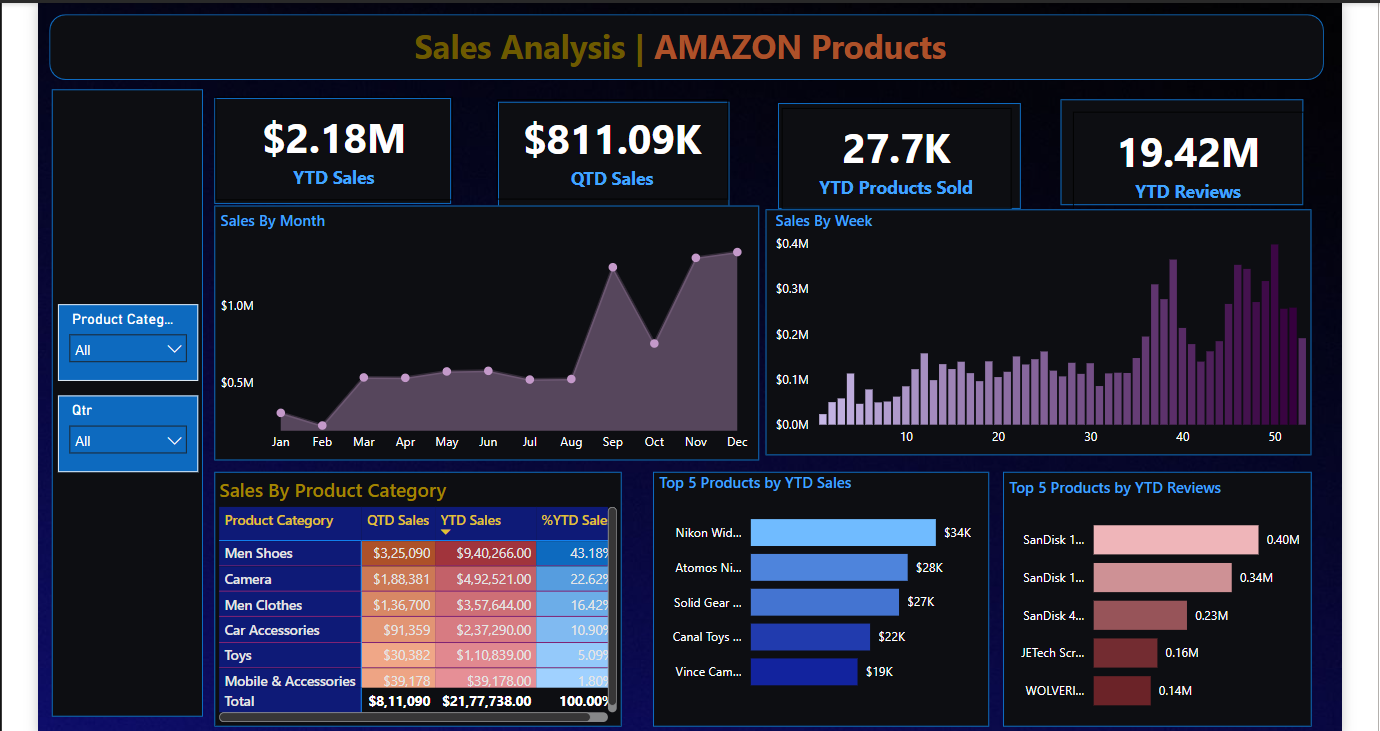

This screenshot's page, from the dashboard's own definition file:
{"tool":"powerbi","page":{"name":"Page 1","canvas":[1280,720],"ordinal":0},"visuals":[{"type":"shape","box":[11,11,1251.5,64.5],"z":0},{"type":"shape","box":[173,93.9,233.1,104.3],"z":0,"group":"g1"},{"type":"shape","box":[13.5,84.7,148.5,616],"z":1000},{"type":"textbox","box":[365,16.5,543.4,54.9],"z":2000},{"type":"group","id":"g1","title":"Group 1","box":[173,92.3,1070.2,113.9],"z":3000},{"type":"card","fields":{"Values":["Amazon_Data.YTD Sales"]},"box":[174.5,92.3,233.1,101.8],"z":4000,"group":"g1"},{"type":"shape","box":[173,198.8,535,250.3],"z":4000},{"type":"shape","box":[451.5,97.3,227,104.3],"z":5000,"group":"g1"},{"type":"areaChart","title":"Sales By Month","fields":{"Category":["Date Table.Month Name"],"Y":["Sum(Amazon_Data.Price(Dollar))"]},"box":[174.2,202.5,533.7,246.6],"z":5000},{"type":"shape","box":[726.4,98.7,238,104.3],"z":6000,"group":"g1"},{"type":"shape","box":[714.1,202.5,536.2,241.7],"z":6000},{"type":"shape","box":[1003.9,94.4,238,104.3],"z":7000,"group":"g1"},{"type":"columnChart","title":"Sales By Week","fields":{"Category":["Date Table.Week"],"Y":["Sum(Amazon_Data.Price(Dollar))"]},"box":[719,202.5,535,241.7],"z":7000},{"type":"card","fields":{"Values":["Amazon_Data.QTD Sales"]},"box":[450,94.9,227,98.2],"z":7001,"group":"g1"},{"type":"card","fields":{"Values":["Amazon_Data.YTD Products Sold"]},"box":[730,103,225.8,99.4],"z":7002,"group":"g1"},{"type":"card","fields":{"Values":["Amazon_Data.YTD Reviews"]},"box":[1016.2,106.9,227,99.4],"z":7003,"group":"g1"},{"type":"shape","box":[173,460.1,400,250.3],"z":8000},{"type":"pivotTable","title":"Sales By Product Category","fields":{"Rows":["Amazon_Data.Product Category"],"Values":["Amazon_Data.QTD Sales","Amazon_Data.YTD Sales1","Amazon_Data.YTD Sales"]},"box":[173,465,400,245.4],"z":9000},{"type":"shape","box":[603.7,460.1,330.1,250.3],"z":10000},{"type":"shape","box":[947.2,460.1,303.1,250.3],"z":11000},{"type":"clusteredBarChart","title":"Top 5 Products by YTD Sales","fields":{"Category":["Amazon_Data.Product Description"],"Y":["Amazon_Data.YTD Sales"]},"box":[604.9,460.1,328.8,229.4],"z":12000},{"type":"clusteredBarChart","title":"Top 5 Products by YTD Reviews","fields":{"Category":["Amazon_Data.Product Description"],"Y":["Amazon_Data.YTD Reviews"]},"box":[948.5,465,301.8,245.4],"z":13000},{"type":"slicer","fields":{"Values":["Amazon_Data.Product Category"]},"box":[19.6,295.7,137.4,74.8],"z":14000},{"type":"slicer","fields":{"Values":["Date Table.Qtr"]},"box":[19.6,385.3,137.4,74.8],"z":14001}]}

Visuals, with their boxes on the page's 1280x720 design canvas (x1, y1, x2, y2). These are canvas units, not pixel positions in the 1380x731 screenshot, which may show the page scaled, cropped or inside an application window:
shape: bbox(11, 11, 1262, 76)
shape: bbox(173, 94, 406, 198)
shape: bbox(14, 85, 162, 701)
textbox: bbox(365, 16, 908, 71)
"Group 1" group: bbox(173, 92, 1243, 206)
card - Amazon_Data.YTD Sales: bbox(174, 92, 408, 194)
shape: bbox(173, 199, 708, 449)
shape: bbox(452, 97, 678, 202)
"Sales By Month" areaChart: bbox(174, 202, 708, 449)
shape: bbox(726, 99, 964, 203)
shape: bbox(714, 202, 1250, 444)
shape: bbox(1004, 94, 1242, 199)
"Sales By Week" columnChart: bbox(719, 202, 1254, 444)
card - Amazon_Data.QTD Sales: bbox(450, 95, 677, 193)
card - Amazon_Data.YTD Products Sold: bbox(730, 103, 956, 202)
card - Amazon_Data.YTD Reviews: bbox(1016, 107, 1243, 206)
shape: bbox(173, 460, 573, 710)
"Sales By Product Category" pivotTable: bbox(173, 465, 573, 710)
shape: bbox(604, 460, 934, 710)
shape: bbox(947, 460, 1250, 710)
"Top 5 Products by YTD Sales" clusteredBarChart: bbox(605, 460, 934, 690)
"Top 5 Products by YTD Reviews" clusteredBarChart: bbox(948, 465, 1250, 710)
slicer - Amazon_Data.Product Category: bbox(20, 296, 157, 370)
slicer - Date Table.Qtr: bbox(20, 385, 157, 460)
